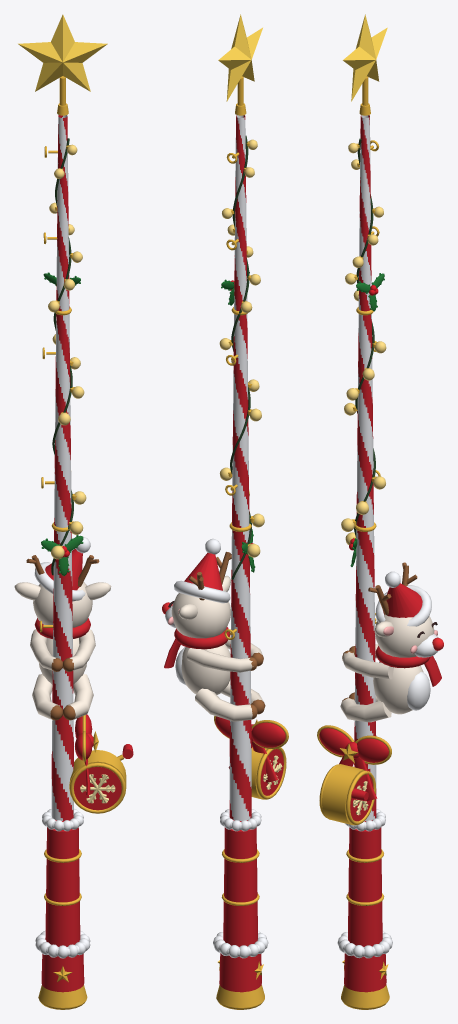
The model's file is XmasRod2.glb.
3 views of the same model, side by side, from view 1: azimuth 90°, elevation 25°; view 2: azimuth 150°, elevation 25°; view 3: azimuth 330°, elevation 25° (orthographic).
Parts seen in each view (by area): view 1: XmasRod2__Red, XmasRod2__Snow, XmasRod2__Fur, XmasRod2__Gold, XmasRod2__Star, XmasRod2__BulbWarm, XmasRod2__Antler, XmasRod2__Wire, XmasRod2__Holly, XmasRod2__Flake, XmasRod2__Scarf; view 2: XmasRod2__Red, XmasRod2__Snow, XmasRod2__Fur, XmasRod2__Gold, XmasRod2__Star, XmasRod2__BulbWarm, XmasRod2__Scarf, XmasRod2__Wire, XmasRod2__Antler, XmasRod2__Holly; view 3: XmasRod2__Red, XmasRod2__Snow, XmasRod2__Gold, XmasRod2__Fur, XmasRod2__BulbWarm, XmasRod2__Star, XmasRod2__Scarf, XmasRod2__Wire, XmasRod2__Antler, XmasRod2__Holly.
Boxes of the visible parts, bbox=[...] form: XmasRod2__Red: bbox=[41, 115, 133, 992]; XmasRod2__Snow: bbox=[34, 115, 90, 958]; XmasRod2__Fur: bbox=[14, 581, 111, 719]; XmasRod2__Gold: bbox=[38, 76, 126, 1009]; XmasRod2__Star: bbox=[18, 14, 107, 91]; XmasRod2__BulbWarm: bbox=[48, 144, 86, 559]; XmasRod2__Antler: bbox=[26, 555, 99, 720]; XmasRod2__Wire: bbox=[51, 138, 73, 575]; XmasRod2__Holly: bbox=[41, 272, 83, 576]; XmasRod2__Flake: bbox=[80, 774, 115, 803]; XmasRod2__Scarf: bbox=[34, 618, 90, 638]; XmasRod2__Red: bbox=[184, 115, 285, 992]; XmasRod2__Snow: bbox=[165, 115, 268, 958]; XmasRod2__Fur: bbox=[171, 575, 265, 721]; XmasRod2__Gold: bbox=[214, 76, 288, 1009]; XmasRod2__Star: bbox=[218, 14, 262, 101]; XmasRod2__BulbWarm: bbox=[219, 139, 264, 557]; XmasRod2__Scarf: bbox=[164, 627, 230, 668]; XmasRod2__Wire: bbox=[230, 135, 251, 579]; XmasRod2__Antler: bbox=[188, 551, 265, 719]; XmasRod2__Holly: bbox=[221, 272, 255, 572]; XmasRod2__Red: bbox=[319, 115, 422, 992]; XmasRod2__Snow: bbox=[337, 115, 438, 958]; XmasRod2__Gold: bbox=[317, 76, 391, 1009]; XmasRod2__Fur: bbox=[340, 614, 434, 722]; XmasRod2__BulbWarm: bbox=[341, 143, 386, 544]; XmasRod2__Star: bbox=[343, 14, 387, 101]; XmasRod2__Scarf: bbox=[375, 645, 441, 686]; XmasRod2__Wire: bbox=[354, 138, 375, 537]; XmasRod2__Antler: bbox=[341, 562, 417, 702]; XmasRod2__Holly: bbox=[350, 273, 384, 566].
Size of the model in its own units: 0.8343 by 6.89 by 0.7503.
